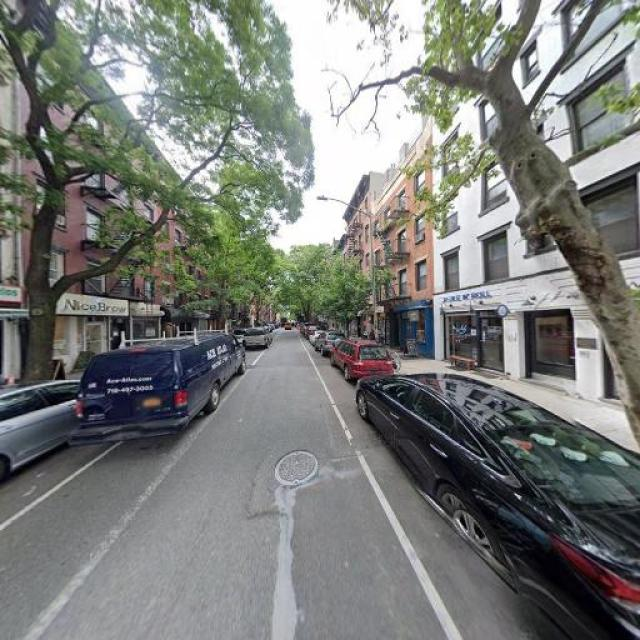Building: (437, 1, 640, 427), (385, 120, 434, 363), (1, 1, 25, 388)
